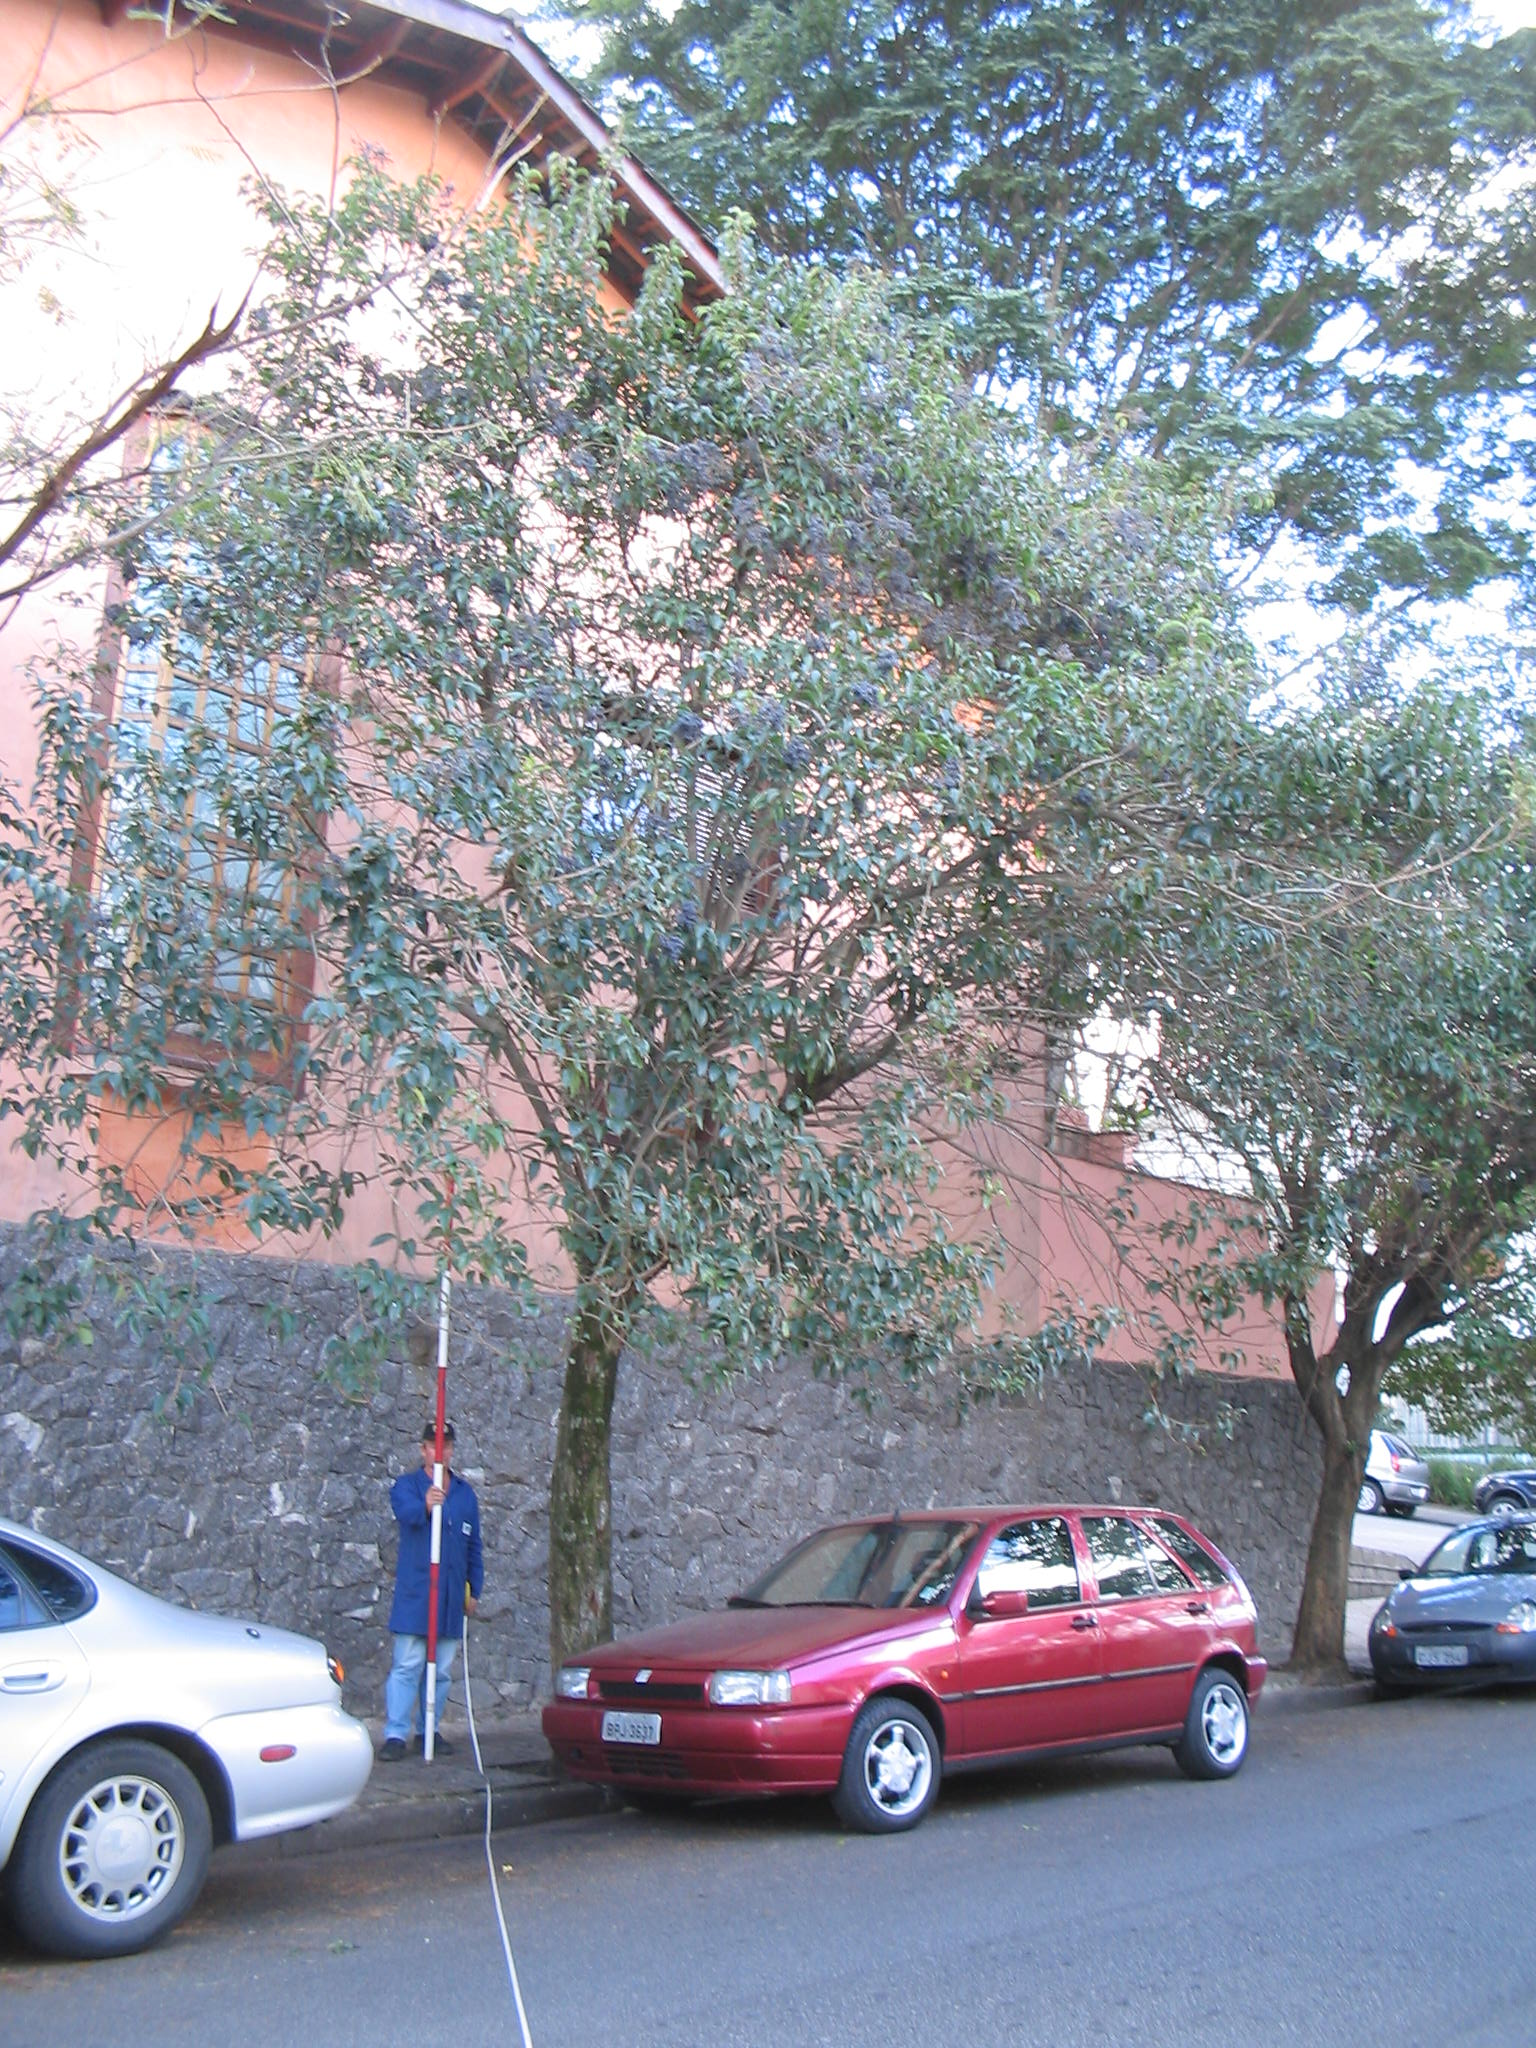crown: (18, 163, 1212, 1392), (1117, 684, 1525, 1408)
stem: (511, 1326, 641, 1755), (1257, 1453, 1388, 1667)
stick: (390, 1174, 486, 1763)
tree: (3, 158, 1225, 1763), (1107, 679, 1528, 1674)
